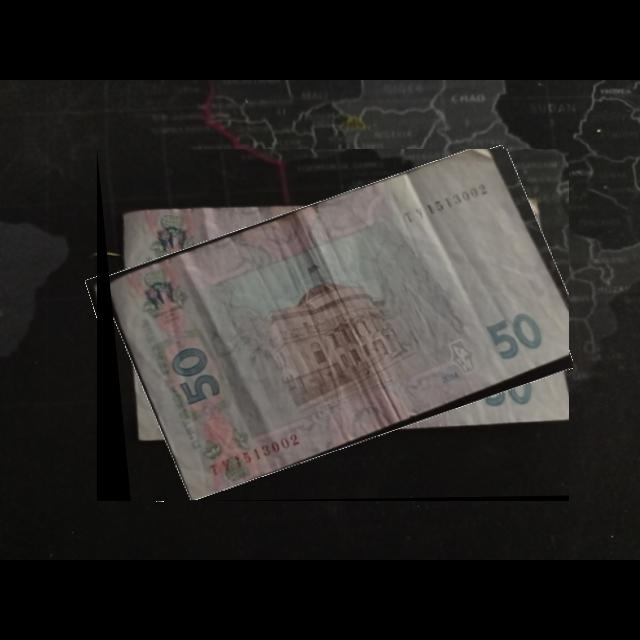50uah: (107, 149, 570, 502)
